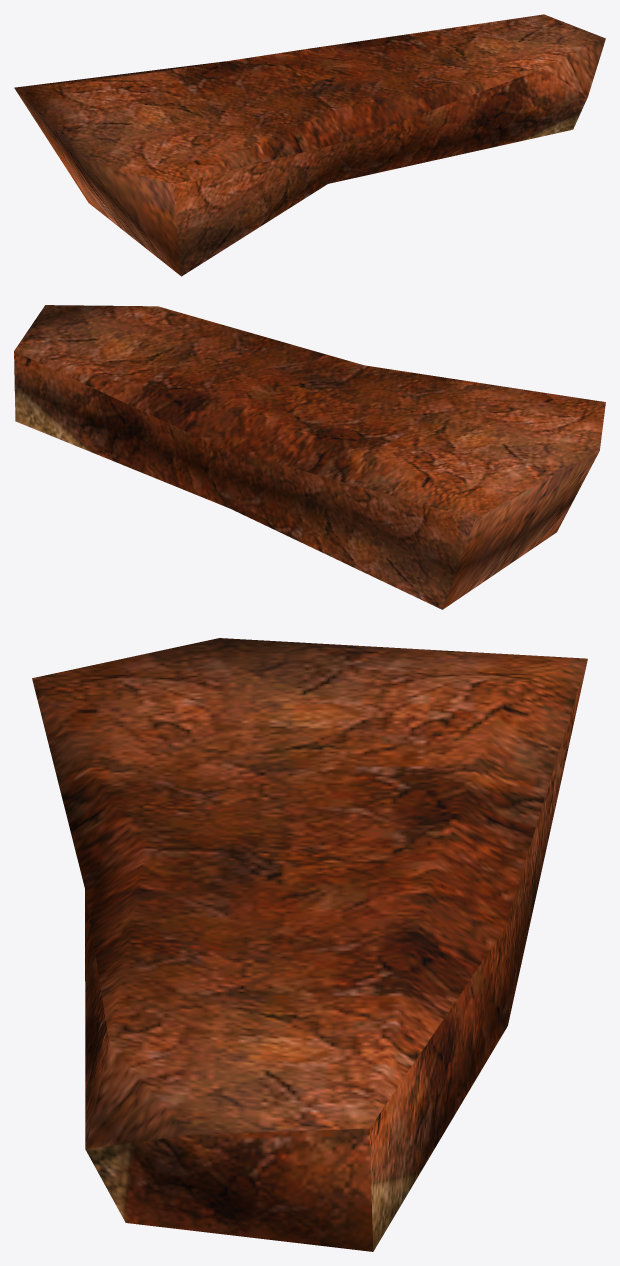
The model's file is stbr13.dae.
The picture shows the model from 3 angles, top to bottom: view 1: azimuth 30°, elevation 25°; view 2: azimuth 150°, elevation 25°; view 3: azimuth 270°, elevation 25°; orthographic projection. The views are drawn at different scales.
Visible parts, largest first — view 1: base1; view 2: base1; view 3: base1.
Part boxes in pixels (<box>): base1: <box>14,14,605,276</box>; base1: <box>14,305,605,609</box>; base1: <box>32,638,587,1251</box>.
Size of the model in its own units: 5.99 by 2.81 by 1.33.
Materials: 1 (1 with a texture image).
